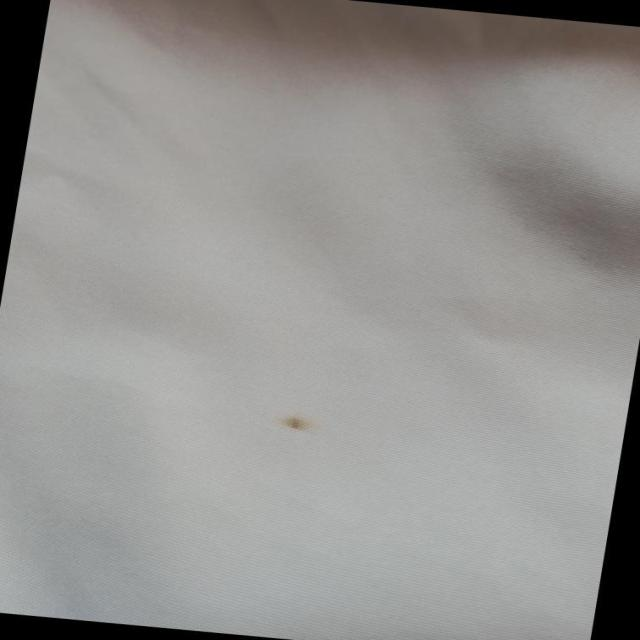stain: (263, 406, 328, 447)
